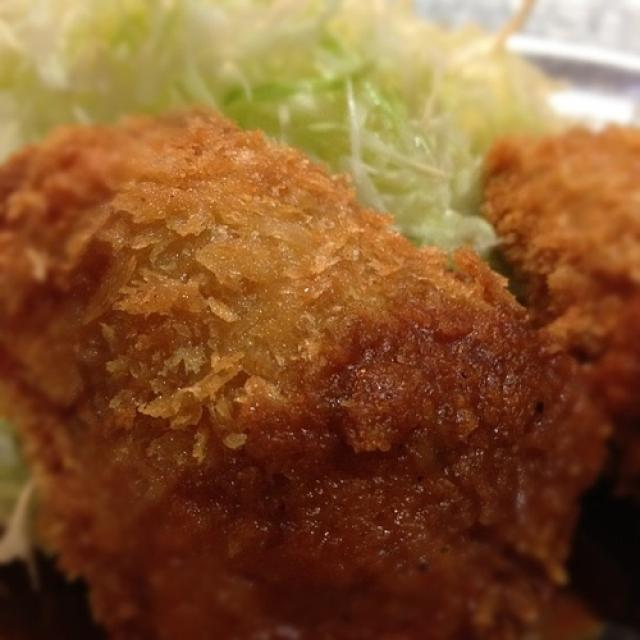牛肉菜式: (9, 79, 623, 631)
